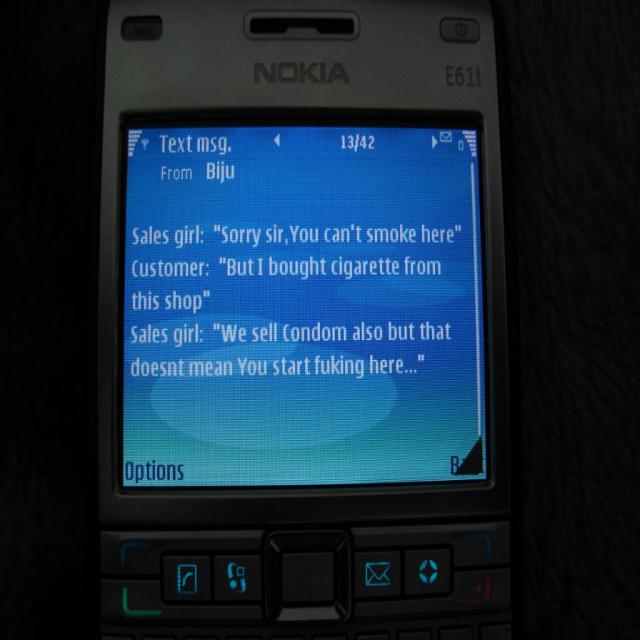Mobile-phone: (90, 21, 516, 628)
